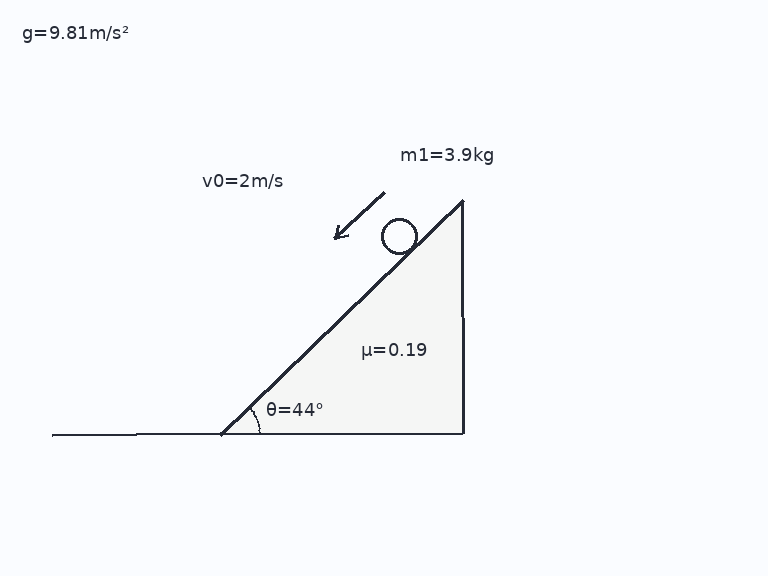ball: (379, 216, 419, 256)
ramp: (218, 198, 464, 436)
